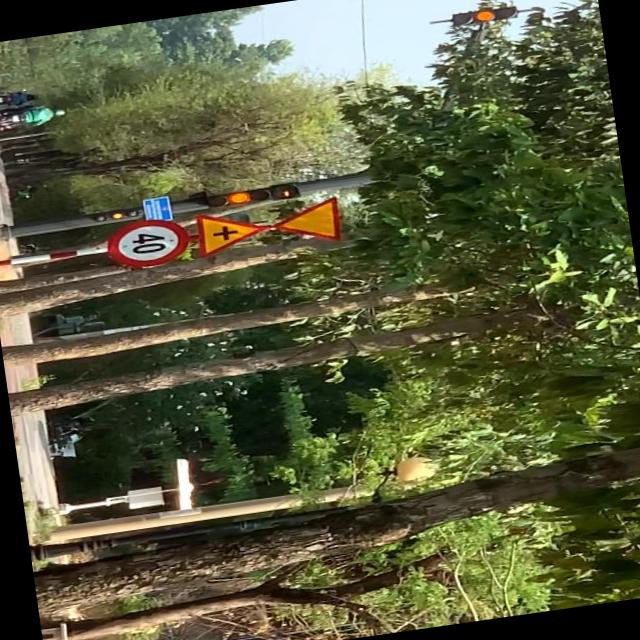P-127: (103, 214, 193, 271)
W-205a: (193, 204, 270, 257)
W-208: (270, 196, 342, 248)
